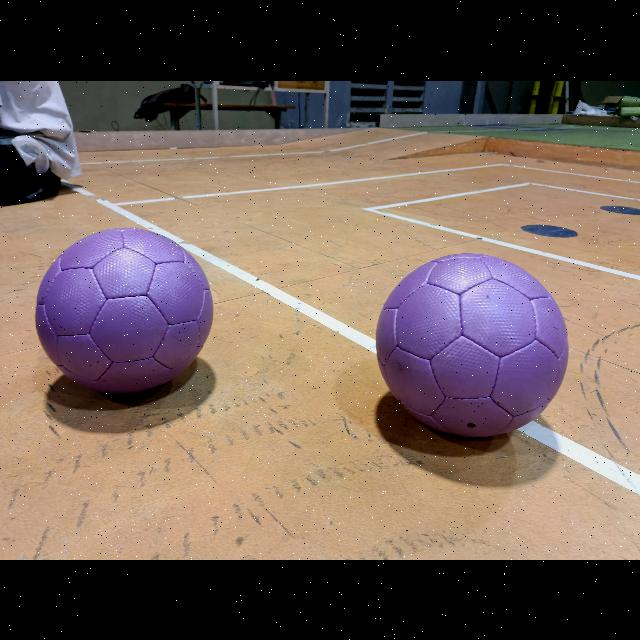P: (377, 254, 568, 436), (36, 228, 212, 392)
